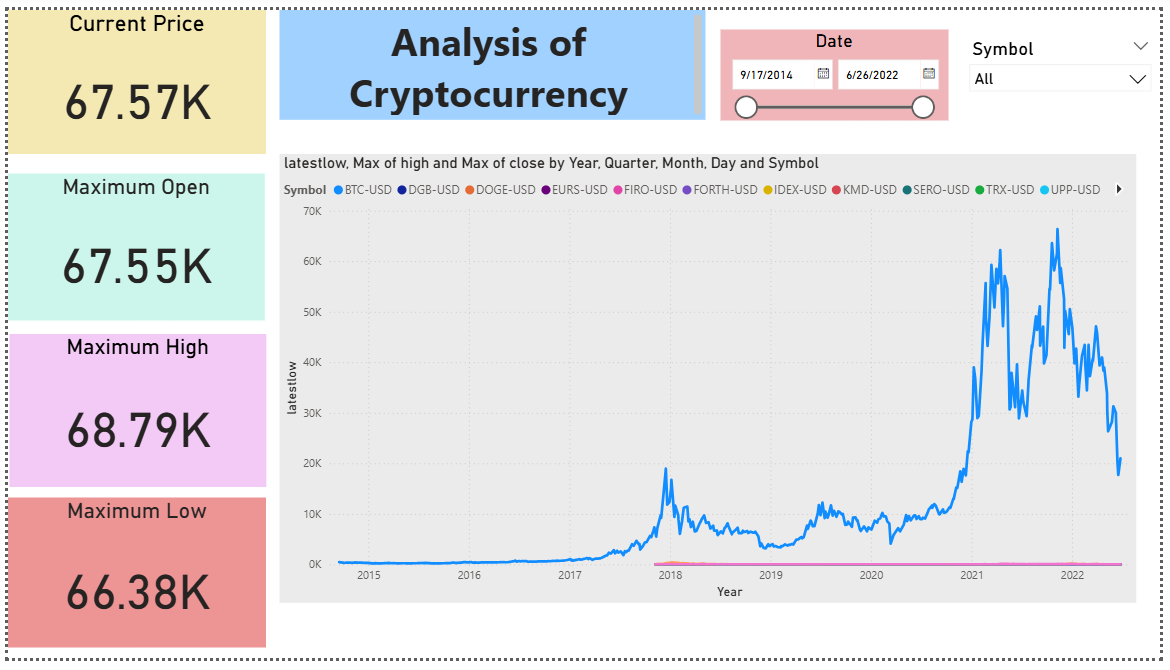

The page's visual inventory and layout, read from the dashboard file:
{"tool":"powerbi","page":{"name":"Analysis of Crypto","canvas":[1280,720],"ordinal":1},"visuals":[{"type":"card","title":"Current Price","fields":{"Values":["Combined crypto data.Current Price"]},"box":[0,0,286.7,160],"z":0},{"type":"slicer","fields":{"Values":["Combined crypto data.Symbol"]},"box":[1059,24.3,221.8,97.2],"z":1000},{"type":"lineChart","fields":{"Category":["Combined crypto data.timestamp.Variation.Date Hierarchy.Year","Combined crypto data.timestamp.Variation.Date Hierarchy.Quarter","Combined crypto data.timestamp.Variation.Date Hierarchy.Month","Combined crypto data.timestamp.Variation.Date Hierarchy.Day"],"Y":["Combined crypto data.latestlow"],"Series":["Combined crypto data.Symbol"]},"box":[301.2,160.3,952.1,498.7],"z":2000},{"type":"card","title":"Maximum Open","fields":{"Values":["Combined crypto data.Max Open Price"]},"box":[0,181.7,285,163.3],"z":3000},{"type":"card","title":"Maximum High","fields":{"Values":["Combined crypto data.Latest High"]},"box":[1.7,360,285,170],"z":4000},{"type":"card","title":"Maximum Low","fields":{"Values":["Combined crypto data.Latest Low"]},"box":[0,541.7,286.7,166.7],"z":5000},{"type":"slicer","title":"Date","fields":{"Values":["Combined crypto data.timestamp"]},"box":[791.8,21,252.6,100.4],"z":6000},{"type":"textbox","box":[301.7,0,473.3,121.7],"z":8000}]}

Visuals, with their boxes in screenshot pixels (x1, y1, x2, y2), scaled from the page's 1280x720 canvas onto the 1170x670 screenshot:
"Current Price" card: 0/0/262/149
slicer - Combined crypto data.Symbol: 968/23/1169/113
lineChart - Combined crypto data.timestamp.Variation.Date Hierarchy.Year x Combined crypto data.timestamp.Variation.Date Hierarchy.Quarter: 275/149/1146/613
"Maximum Open" card: 0/169/261/321
"Maximum High" card: 2/335/262/493
"Maximum Low" card: 0/504/262/659
"Date" slicer: 724/20/955/113
textbox: 276/0/708/113
